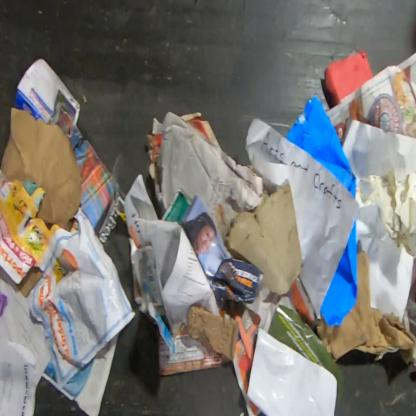cardboard: (316, 250, 416, 363), (0, 106, 84, 232), (224, 181, 304, 296), (187, 305, 239, 362), (15, 265, 43, 297)
